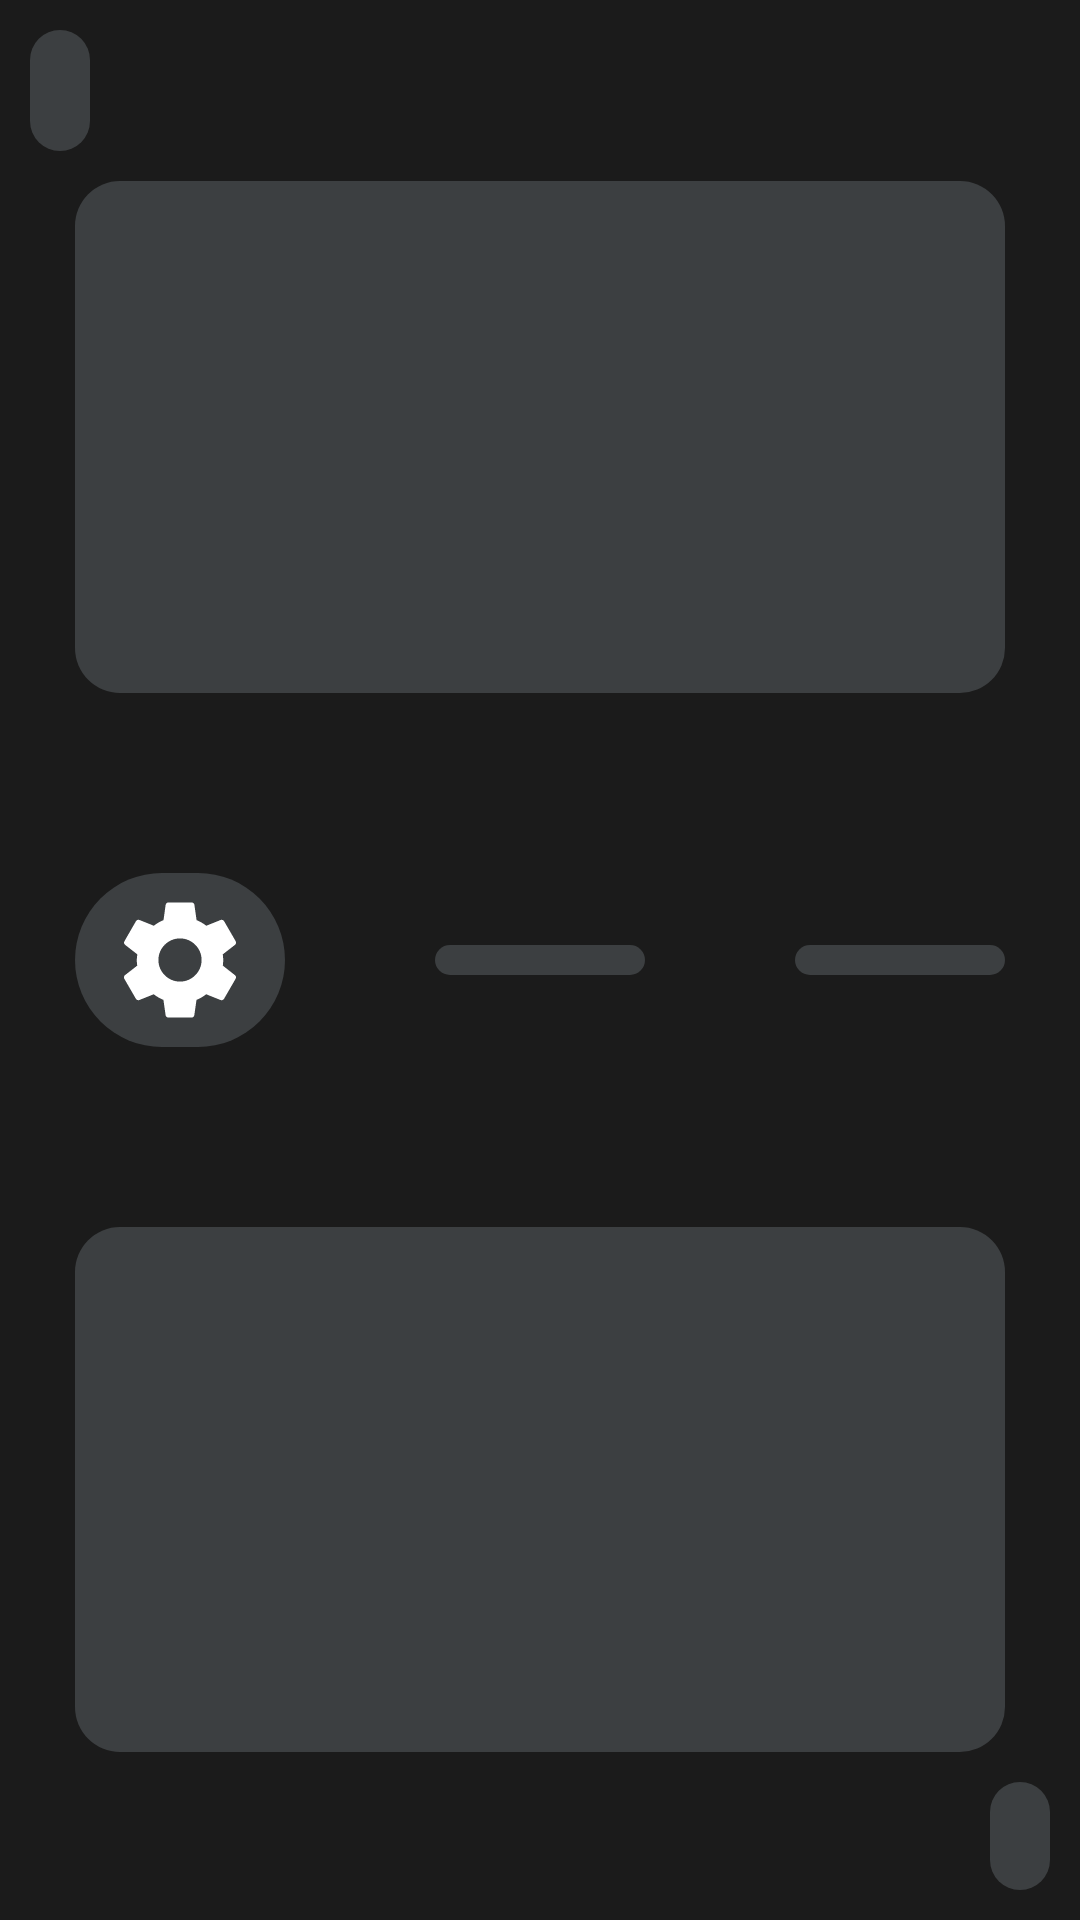

Point at icon controls on the screen. Image size 1080px x 1920px, points as (x=x, y=y).
Settings: (x=180, y=960)
